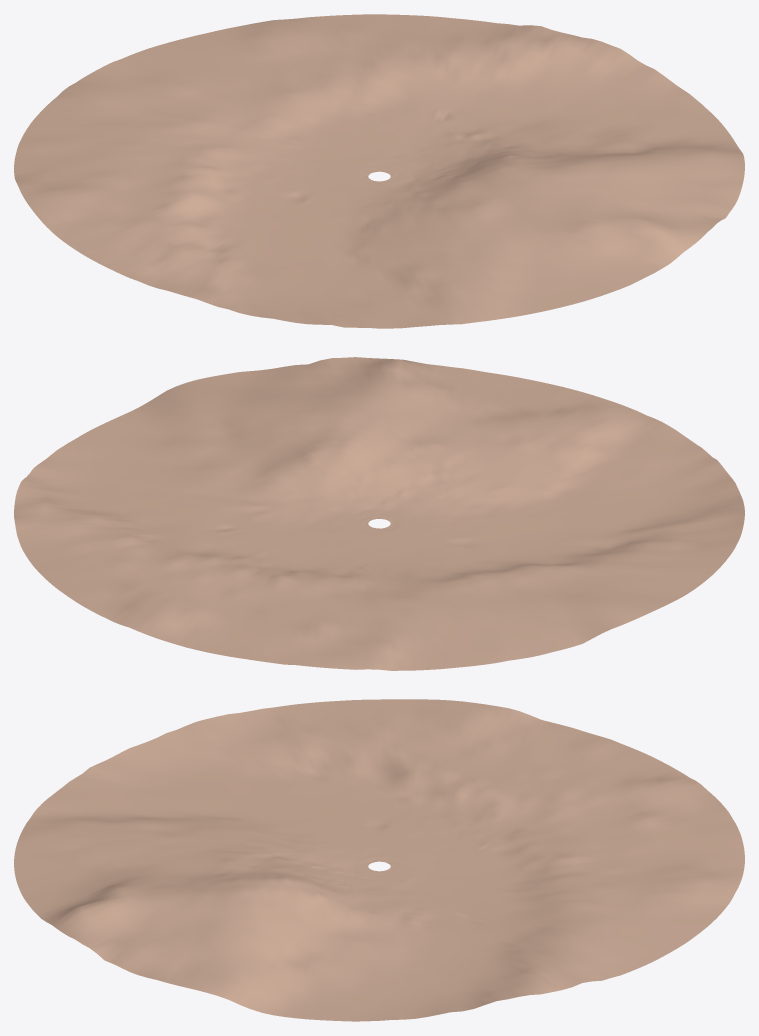
The model's file is terrain_backdrop.glb.
3 renders of one model, top to bottom at view 1: azimuth 30°, elevation 25°; view 2: azimuth 150°, elevation 25°; view 3: azimuth 270°, elevation 25°, orthographic.
Visible parts, largest first — view 1: backdrop; view 2: backdrop; view 3: backdrop.
Boxes of the visible parts, bbox=[...] form: backdrop: bbox=[14, 14, 744, 328]; backdrop: bbox=[14, 357, 744, 670]; backdrop: bbox=[14, 699, 744, 1021].
Bounding box in the file's own units: 12450 × 547 × 12450.
